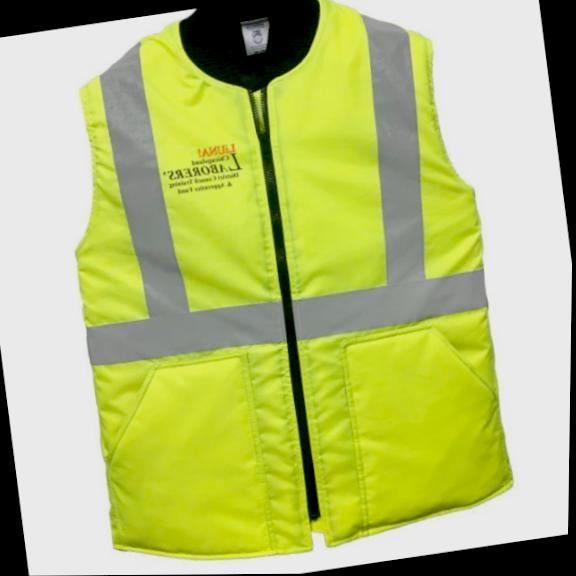safety_vest: (38, 0, 525, 576)
